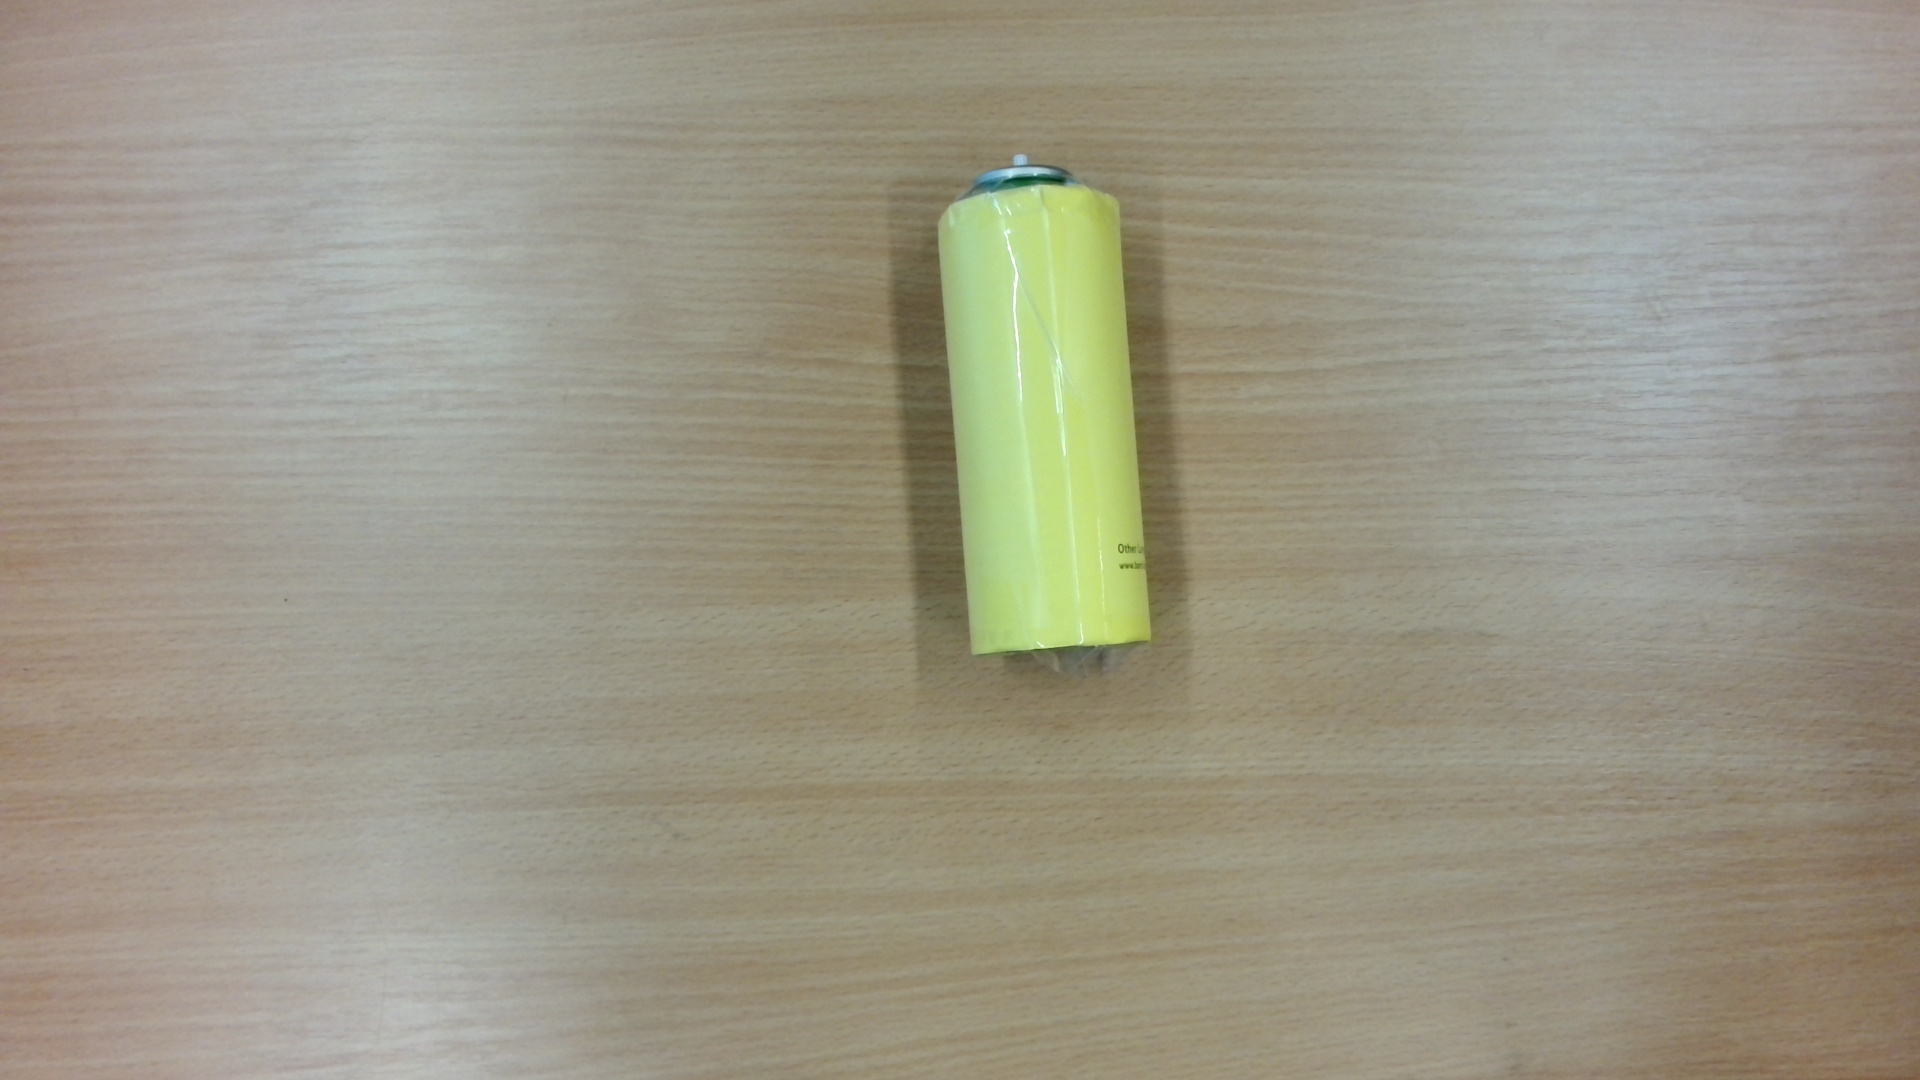Cylinder: (914, 140, 1176, 685)
